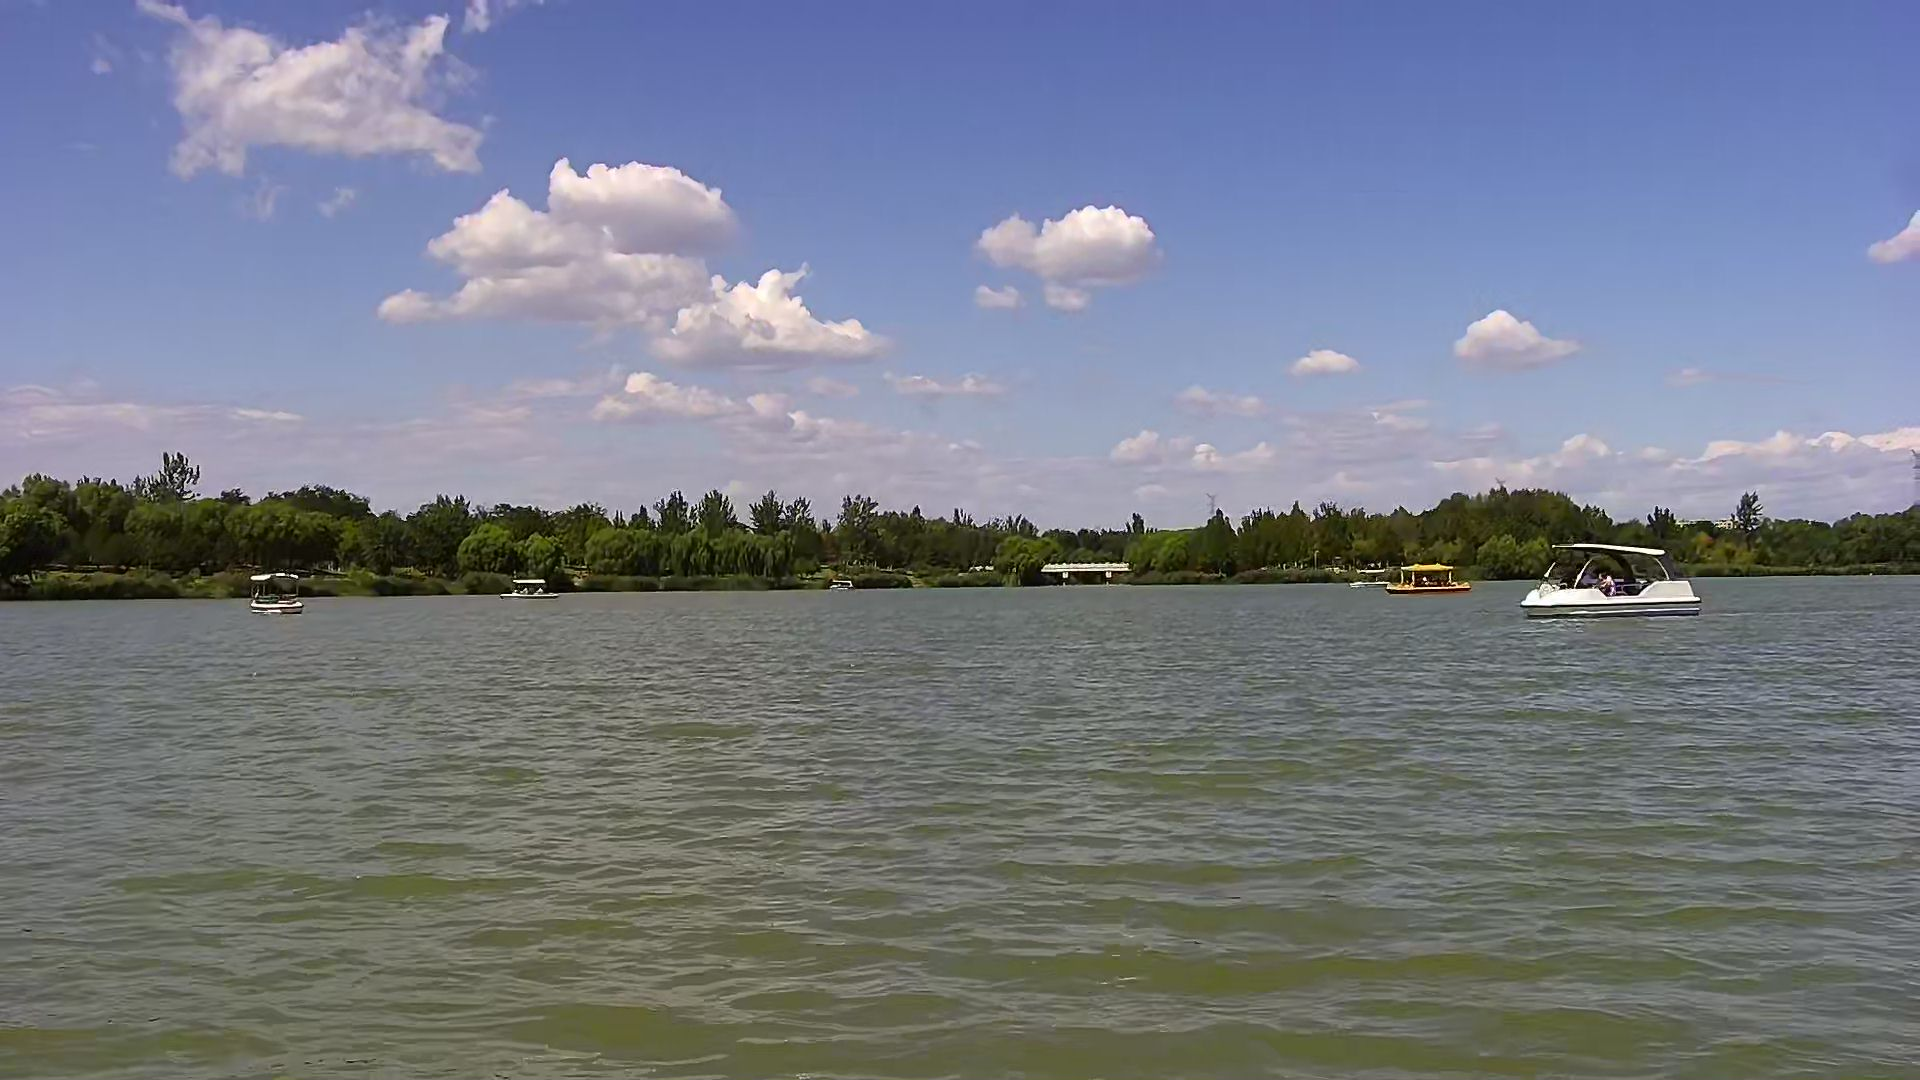boat: (1522, 541, 1702, 622), (247, 568, 299, 616), (1391, 558, 1469, 589), (501, 576, 551, 601), (1346, 568, 1381, 583)
bridge: (1040, 560, 1130, 585)
